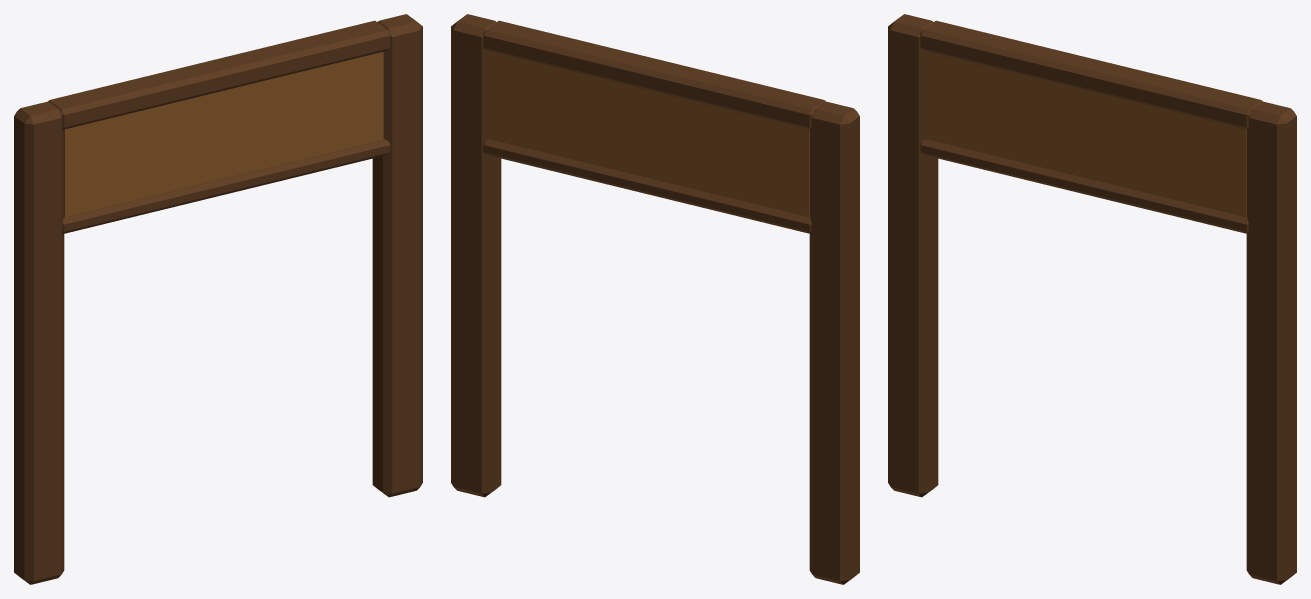
The model's file is ENV_Zone_Sign.fbx.
3 renders of one model, left to right at view 1: azimuth 30°, elevation 25°; view 2: azimuth 150°, elevation 25°; view 3: azimuth 330°, elevation 25°, orthographic.
Parts seen in each view (by area): view 1: Frame, Board; view 2: Frame, Board; view 3: Frame, Board.
Part boxes in pixels (box(x1,y1,x2,y2)): Frame: box(14, 14, 422, 584); Board: box(64, 51, 383, 217); Frame: box(451, 14, 859, 584); Board: box(490, 51, 809, 217); Frame: box(888, 14, 1296, 584); Board: box(927, 51, 1246, 217).
Size of the model in its own units: 8 by 9 by 0.6.
